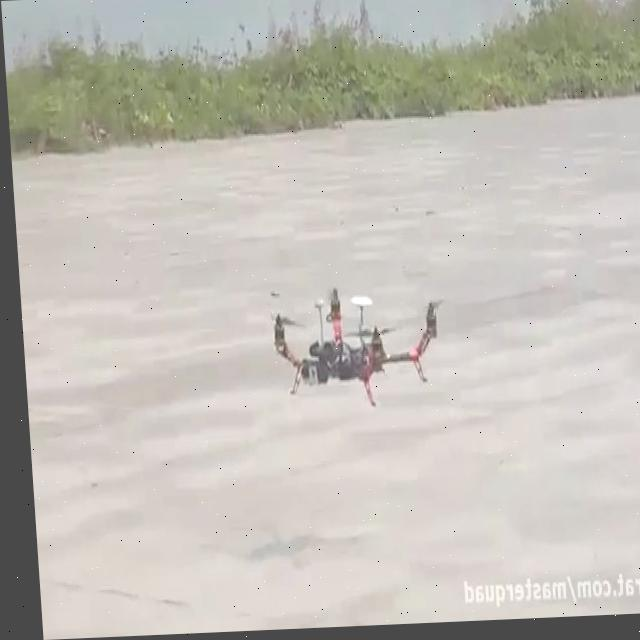drone: (253, 276, 454, 418)
